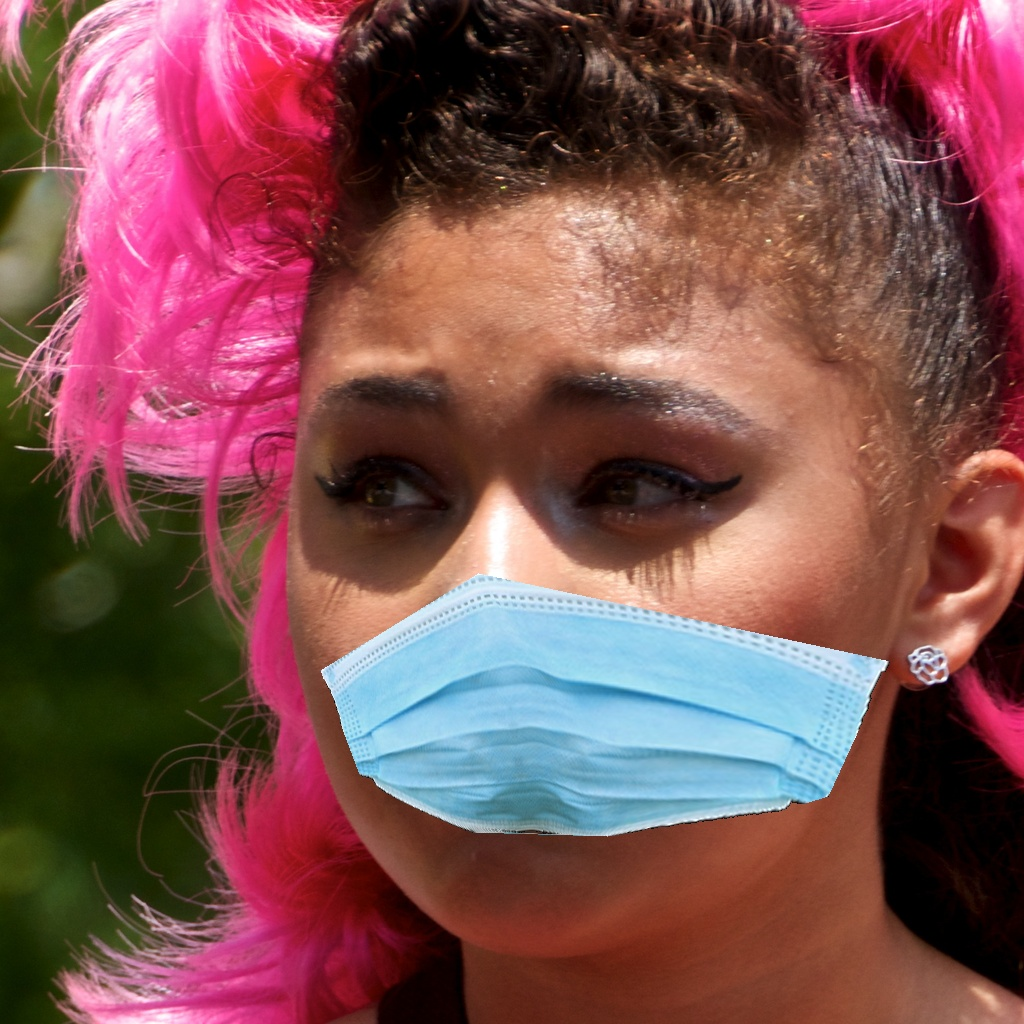mask_weared_incorrect: (263, 341, 908, 931)
